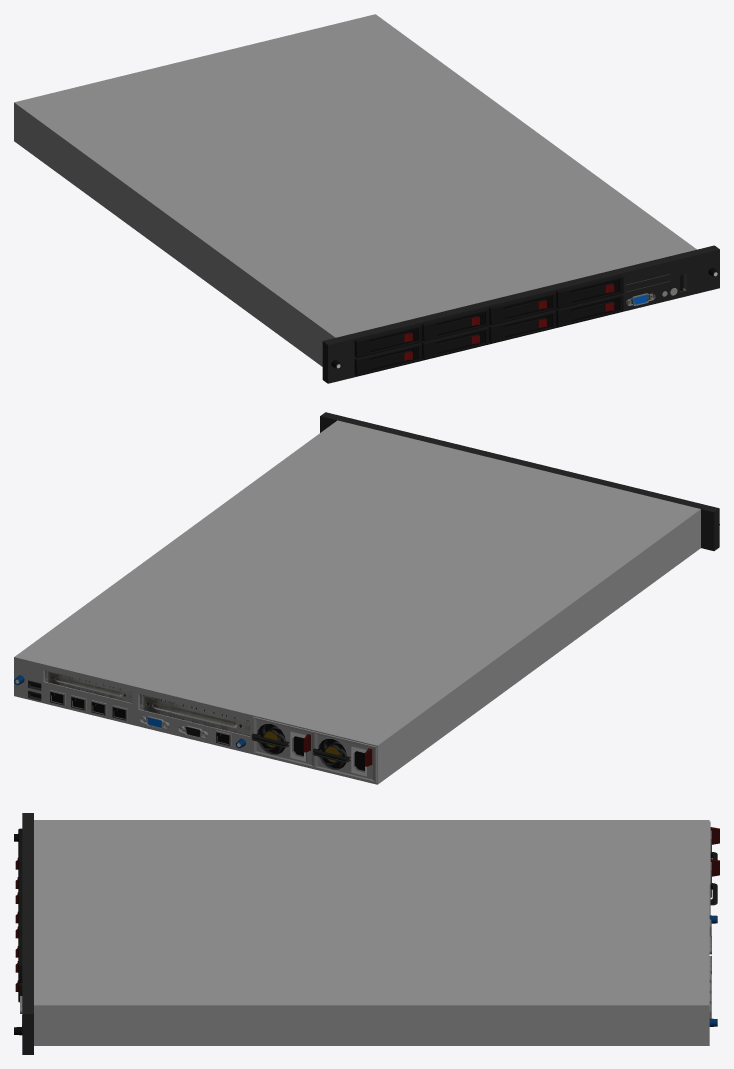
The picture shows the model from 3 angles, top to bottom: view 1: azimuth 30°, elevation 25°; view 2: azimuth 150°, elevation 25°; view 3: azimuth 270°, elevation 25°; orthographic projection. The views are drawn at different scales.
Parts seen in each view (by area): view 1: HPE_DL360_G7; view 2: HPE_DL360_G7; view 3: HPE_DL360_G7.
Boxes of the visible parts, x1,y1,x2,y2 form: HPE_DL360_G7: [14, 14, 719, 383]; HPE_DL360_G7: [14, 412, 719, 784]; HPE_DL360_G7: [14, 813, 719, 1054].
Size of the model in its own units: 471 by 44.5 by 699.
Materials: 21 (1 with a texture image).
